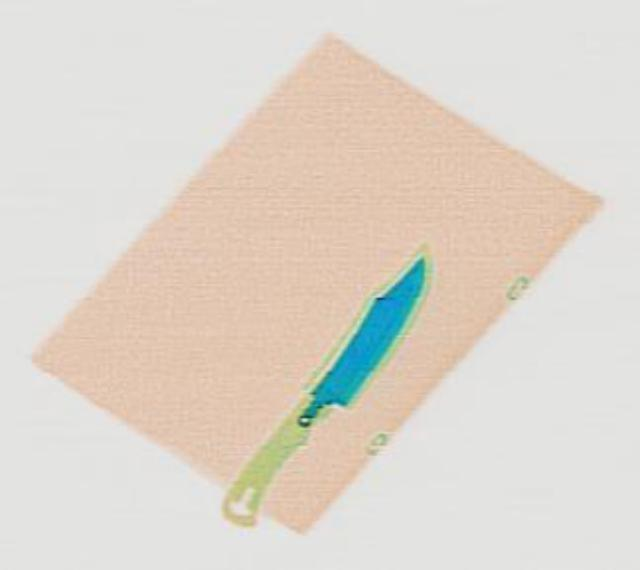Knife: (208, 243, 448, 533)
